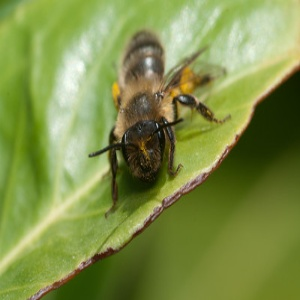bee: (87, 27, 235, 221)
